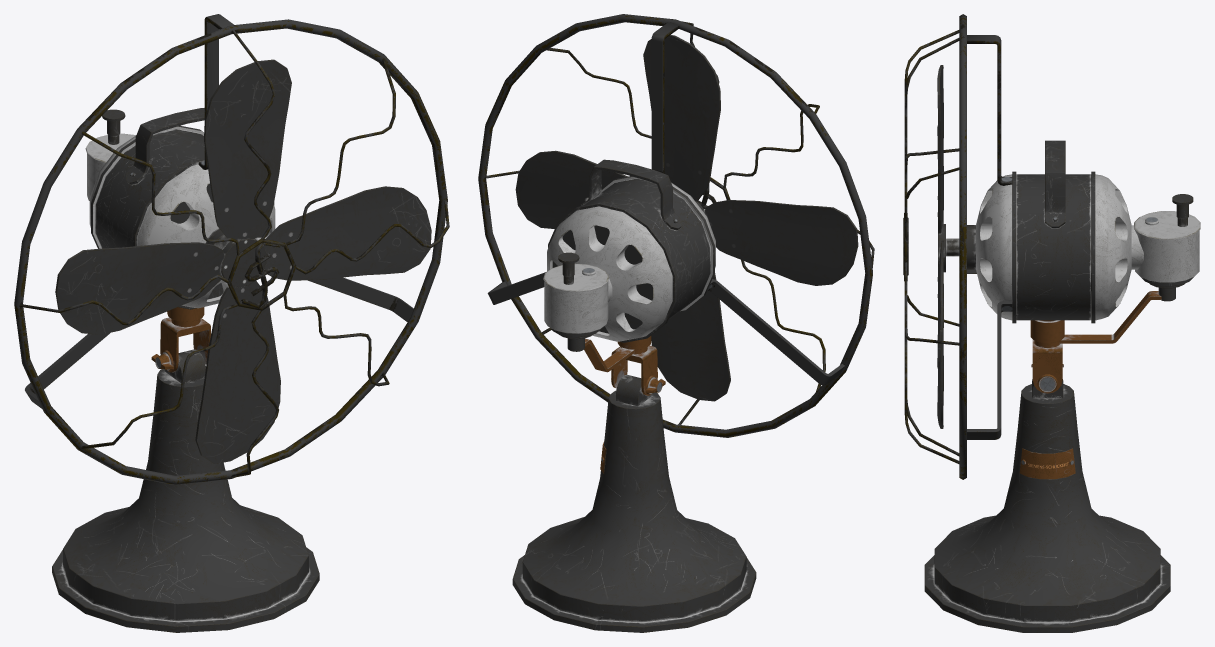
File: Fan.fbx
3 renders of one model, left to right at view 1: azimuth 30°, elevation 25°; view 2: azimuth 150°, elevation 25°; view 3: azimuth 270°, elevation 25°, orthographic. The views are drawn at different scales.
Parts seen in each view (by area): view 1: Cube.003, Cylinder, Cube.004, Cube, Cube.005; view 2: Cylinder, Cube.003, Cube, Cube.004, Cube.005; view 3: Cylinder, Cube, Cube.004, Cube.003, Cube.005.
Part boxes in pixels (bbox=[...]): Cube.003: bbox=[55, 59, 431, 463]; Cylinder: bbox=[52, 317, 319, 632]; Cube.004: bbox=[14, 14, 449, 484]; Cube: bbox=[85, 108, 275, 309]; Cube.005: bbox=[167, 307, 204, 327]; Cylinder: bbox=[512, 345, 756, 632]; Cube.003: bbox=[515, 35, 858, 401]; Cube: bbox=[543, 159, 715, 351]; Cube.004: bbox=[478, 14, 874, 437]; Cube.005: bbox=[584, 336, 651, 372]; Cylinder: bbox=[924, 339, 1170, 632]; Cube: bbox=[976, 140, 1200, 323]; Cube.004: bbox=[903, 14, 1012, 479]; Cube.003: bbox=[937, 65, 975, 428]; Cube.005: bbox=[1030, 291, 1161, 347].
Size of the model in its own units: 90.27 by 116 by 57.34.
